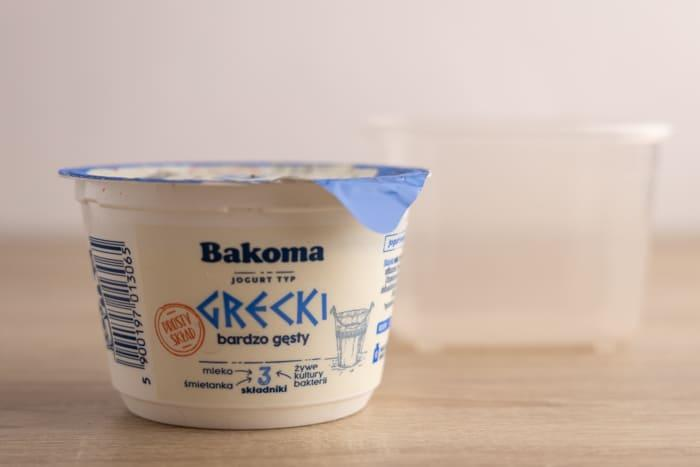plastic: (46, 140, 417, 425)
